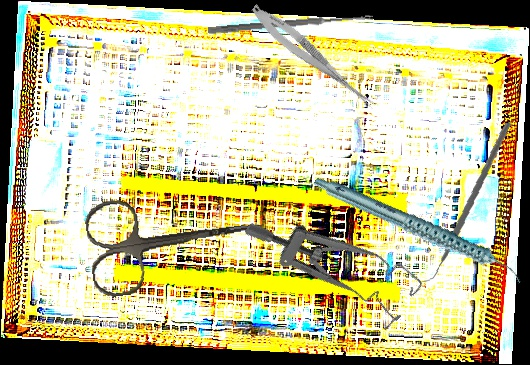Chopper: (400, 122, 528, 283)
Handpiece: (312, 138, 526, 322)
Iris Scissors: (82, 179, 272, 300)
Micro Scissor: (245, 0, 383, 114)
Speculum: (241, 173, 428, 345)
Surgical Spoon: (207, 12, 374, 36)
